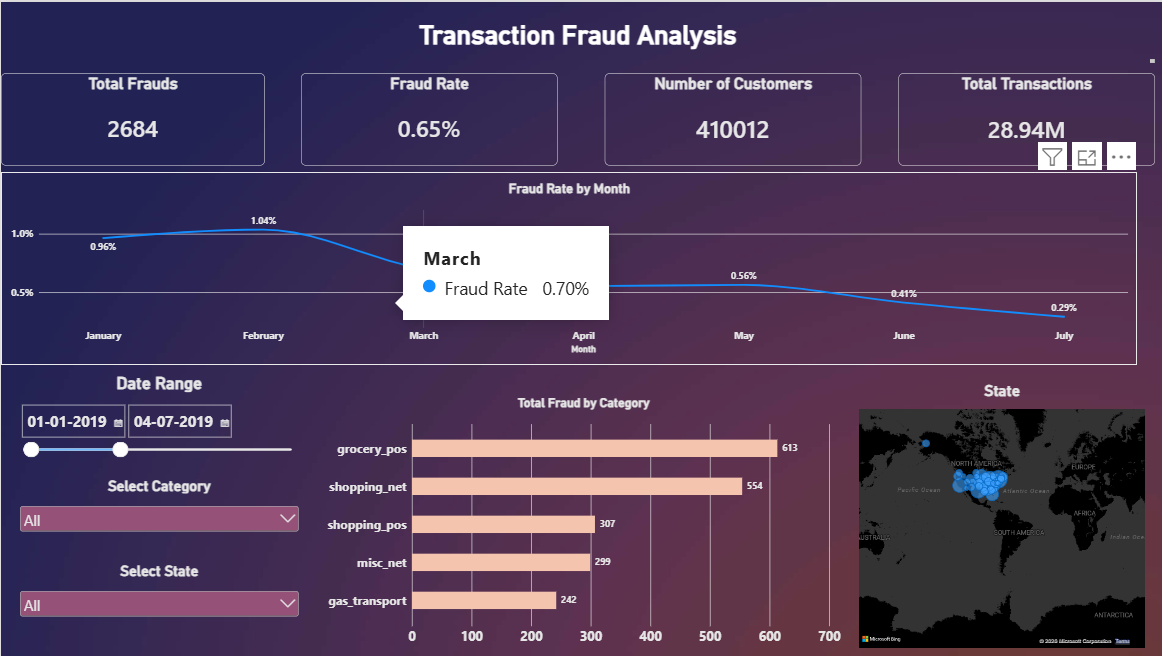

The dashboard page shown, as its layout file describes it:
{"tool":"powerbi","page":{"name":"Page 1","canvas":[1920,1080],"ordinal":0},"visuals":[{"type":"cardVisual","title":"Number of Customers","fields":{"Data":["CountNonNull(public fact_transactions.id)"]},"box":[994,118,422,152],"z":0},{"type":"cardVisual","title":"Total Transactions","fields":{"Data":["Sum(public fact_transactions.amt)"]},"box":[1478,118,422,152],"z":1000},{"type":"barChart","title":"Total Fraud by Category","fields":{"Category":["public dim_merchant.category"],"Y":["Sum(public fact_transactions.is_fraud)"]},"box":[520,634,878,446],"z":2000},{"type":"map","title":"State","fields":{"Category":["public dim_customers.state"],"Size":["Sum(public fact_transactions.is_fraud)"],"X":["Avg(public dim_customers.long)"],"Y":["Avg(public dim_customers.lat)"]},"box":[1398,612,502,468],"z":3000},{"type":"cardVisual","title":"Fraud Rate","fields":{"Data":["public fact_transactions.Fraud Rate"]},"box":[494,118,422,152],"z":4000},{"type":"cardVisual","title":"Total Frauds","fields":{"Data":["Sum(public fact_transactions.is_fraud)"]},"box":[0,118,434,152],"z":5000},{"type":"lineChart","title":"Fraud Rate by Month","fields":{"Category":["public fact_transactions.trans_date_trans_time.Variation.Date Hierarchy.Month"],"Y":["public fact_transactions.Fraud Rate"]},"box":[0,280,1872,316],"z":6000},{"type":"slicer","title":"Date Range","fields":{"Values":["public fact_transactions.trans_date_trans_time"]},"box":[26,612,468,156],"z":7000},{"type":"slicer","title":"Select Category","fields":{"Values":["public dim_merchant.category"]},"box":[26,782,468,126],"z":8000},{"type":"slicer","title":"Select State","fields":{"Values":["public dim_customers.state"]},"box":[26,922,468,136],"z":9000},{"type":"textbox","box":[1748,690,172,390],"z":11000},{"type":"textbox","title":"Transaction Fraud Analysis","box":[0,12,1900,88],"z":13000}]}

Visuals, with their boxes in screenshot pixels (x1, y1, x2, y2), scaled from the page's 1920x1080 canvas onto the 1162x656 screenshot:
"Number of Customers" cardVisual: bbox(602, 72, 857, 164)
"Total Transactions" cardVisual: bbox(894, 72, 1150, 164)
"Total Fraud by Category" barChart: bbox(315, 385, 846, 655)
"State" map: bbox(846, 372, 1150, 655)
"Fraud Rate" cardVisual: bbox(299, 72, 554, 164)
"Total Frauds" cardVisual: bbox(0, 72, 263, 164)
"Fraud Rate by Month" lineChart: bbox(0, 170, 1133, 362)
"Date Range" slicer: bbox(16, 372, 299, 466)
"Select Category" slicer: bbox(16, 475, 299, 552)
"Select State" slicer: bbox(16, 560, 299, 643)
textbox: bbox(1058, 419, 1161, 655)
"Transaction Fraud Analysis" textbox: bbox(0, 7, 1150, 61)
